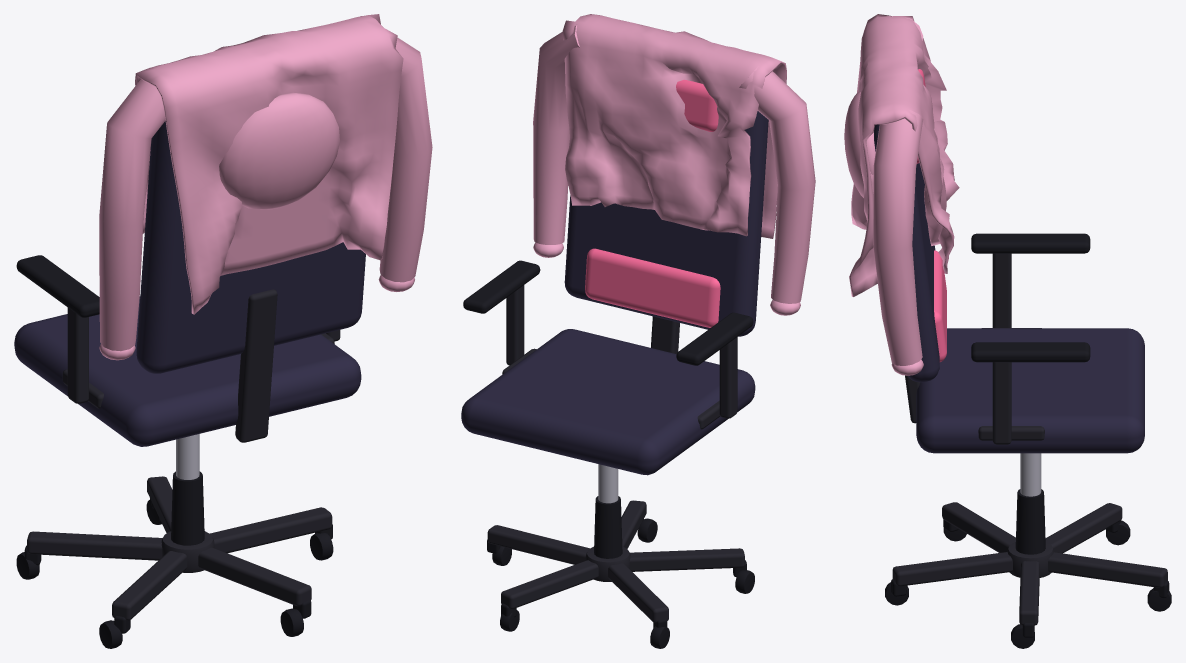
File: desk_chair.fbx
The picture shows the model from 3 angles, left to right: view 1: azimuth 30°, elevation 25°; view 2: azimuth 150°, elevation 25°; view 3: azimuth 270°, elevation 25°; orthographic projection. The views are drawn at different scales.
Parts seen in each view (by area): view 1: desk_chair; view 2: desk_chair; view 3: desk_chair.
Part boxes in pixels (left/top/right/bottom): desk_chair: left=14, top=14, right=432, bottom=648; desk_chair: left=461, top=14, right=815, bottom=648; desk_chair: left=844, top=14, right=1171, bottom=648.
Size of the model in its own units: 0.7028 by 1.23 by 0.6875.
